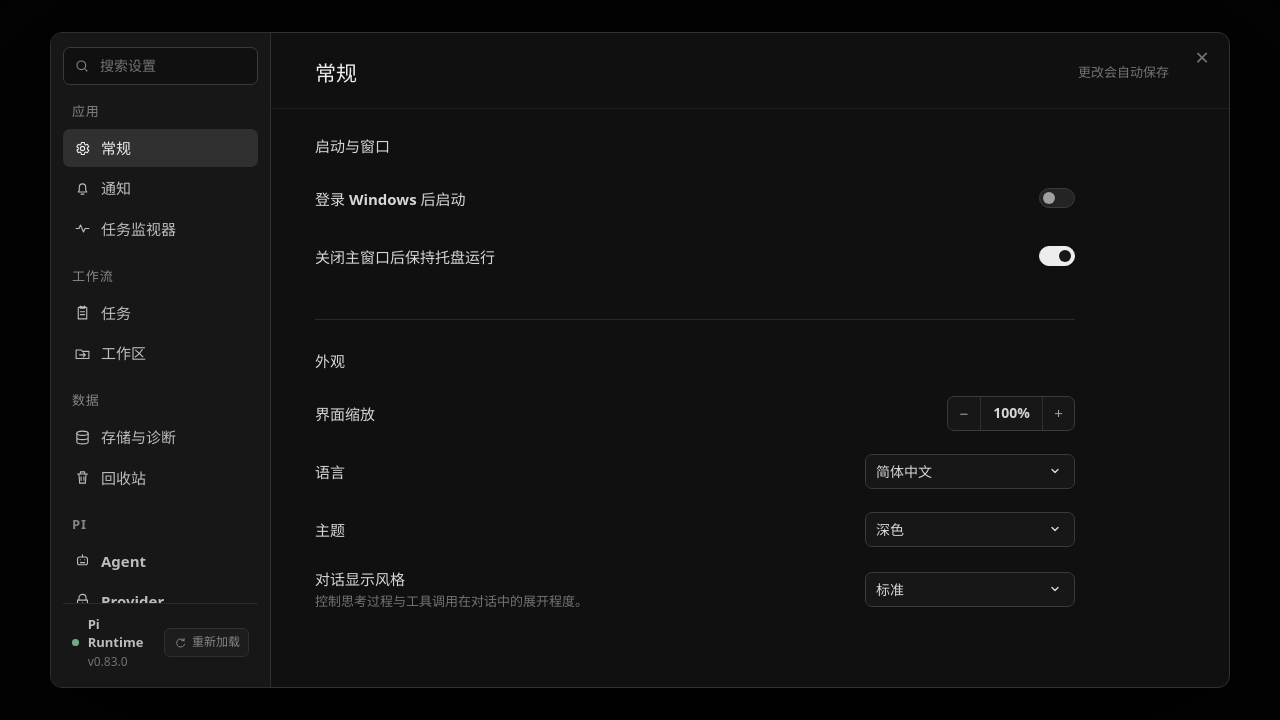
Test: stage 7 settings modal › centers the empty recycle bin in the available content area
The width and height of the screenshot is (1280, 720).
Click the button "回收站": [160, 478] box [63, 458, 258, 497]
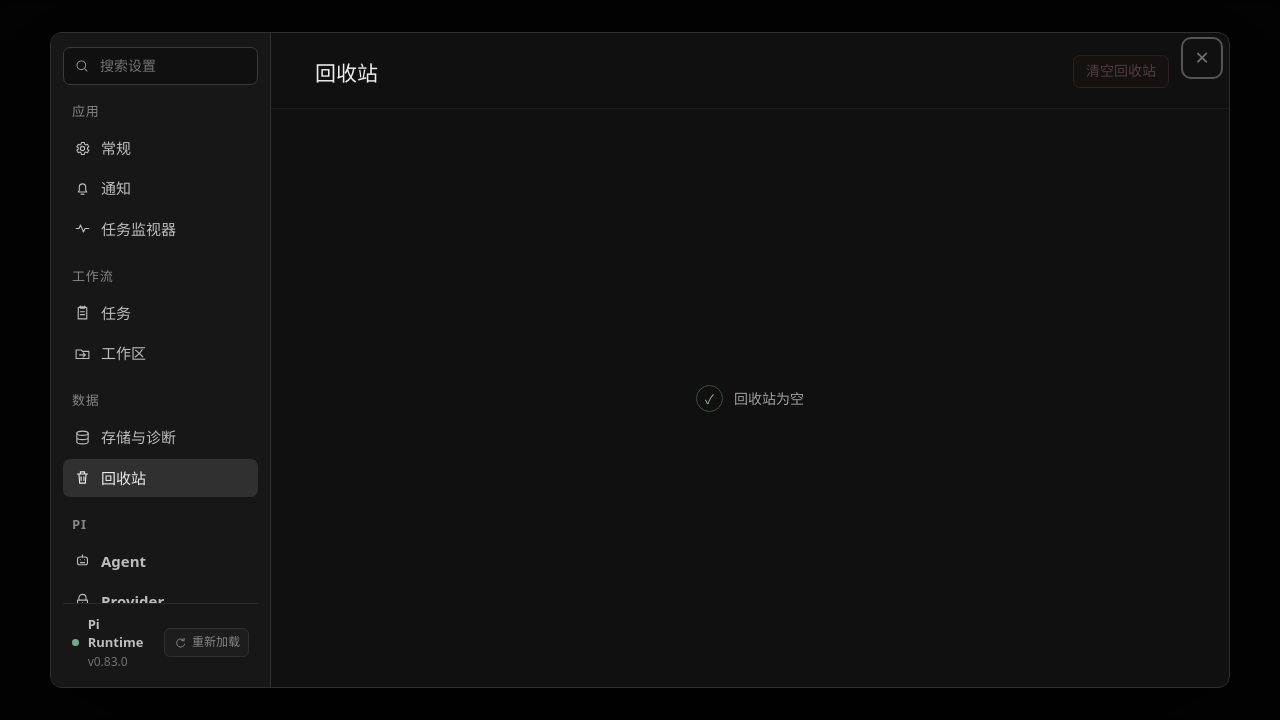
Expected: the element with class "settings-recycle-empty" shows "回收站为空", [734, 389, 804, 408]
